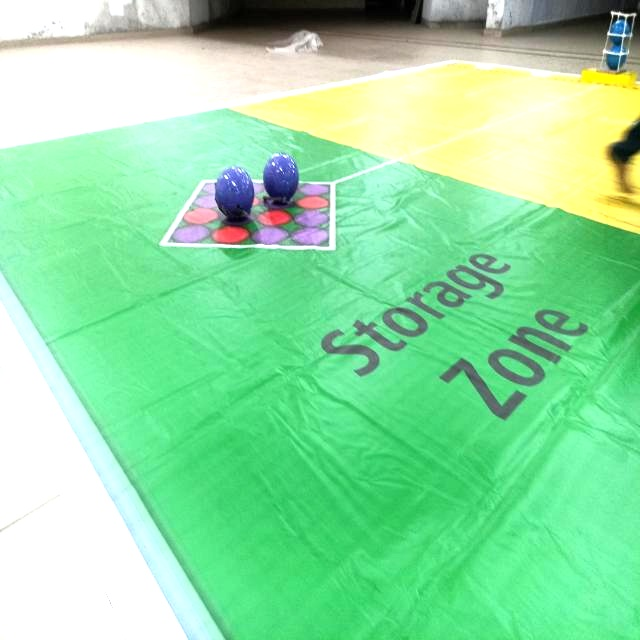purple_ball: (214, 166, 254, 223), (262, 151, 300, 204)
